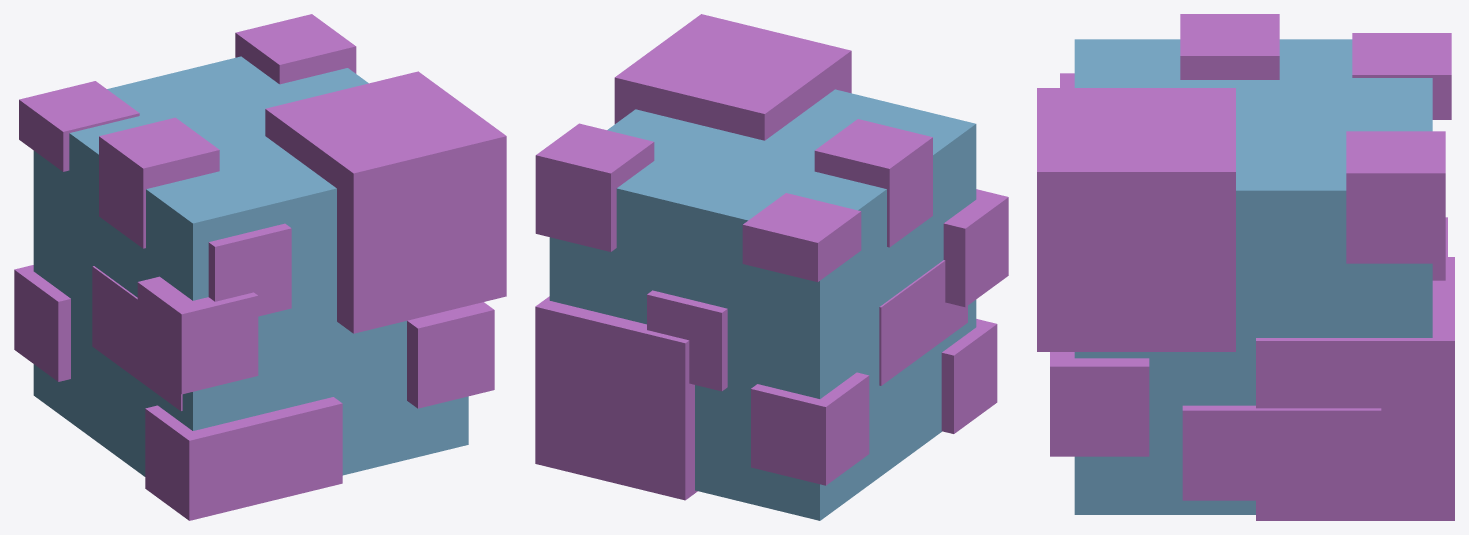
File: Obstacle_A_Msh_02.fbx
The picture shows the model from 3 angles, left to right: view 1: azimuth 30°, elevation 25°; view 2: azimuth 150°, elevation 25°; view 3: azimuth 270°, elevation 25°; orthographic projection. The views are drawn at different scales.
Visible parts, largest first — view 1: Obstacle_A_Msh_02; view 2: Obstacle_A_Msh_02; view 3: Obstacle_A_Msh_02.
Boxes of the visible parts, x1,y1,x2,y2 form: Obstacle_A_Msh_02: [14, 14, 506, 520]; Obstacle_A_Msh_02: [535, 14, 1008, 520]; Obstacle_A_Msh_02: [1037, 14, 1454, 520].
Size of the model in its own units: 197 by 188 by 198.
